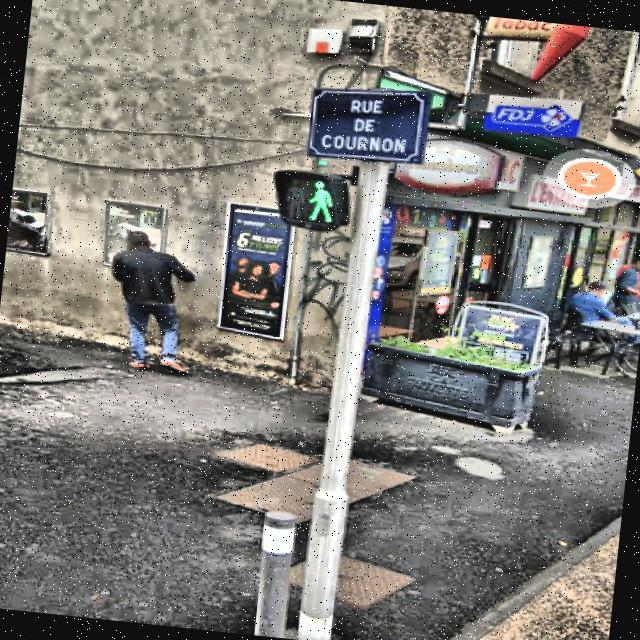green_light: (298, 173, 338, 224)
